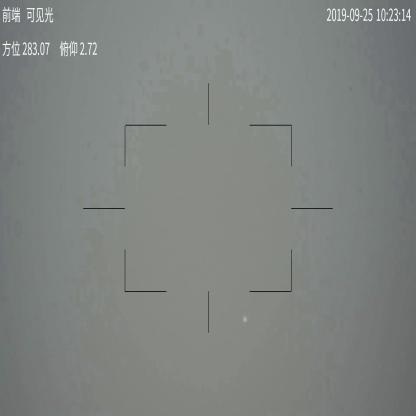uav: (243, 315, 249, 323)
